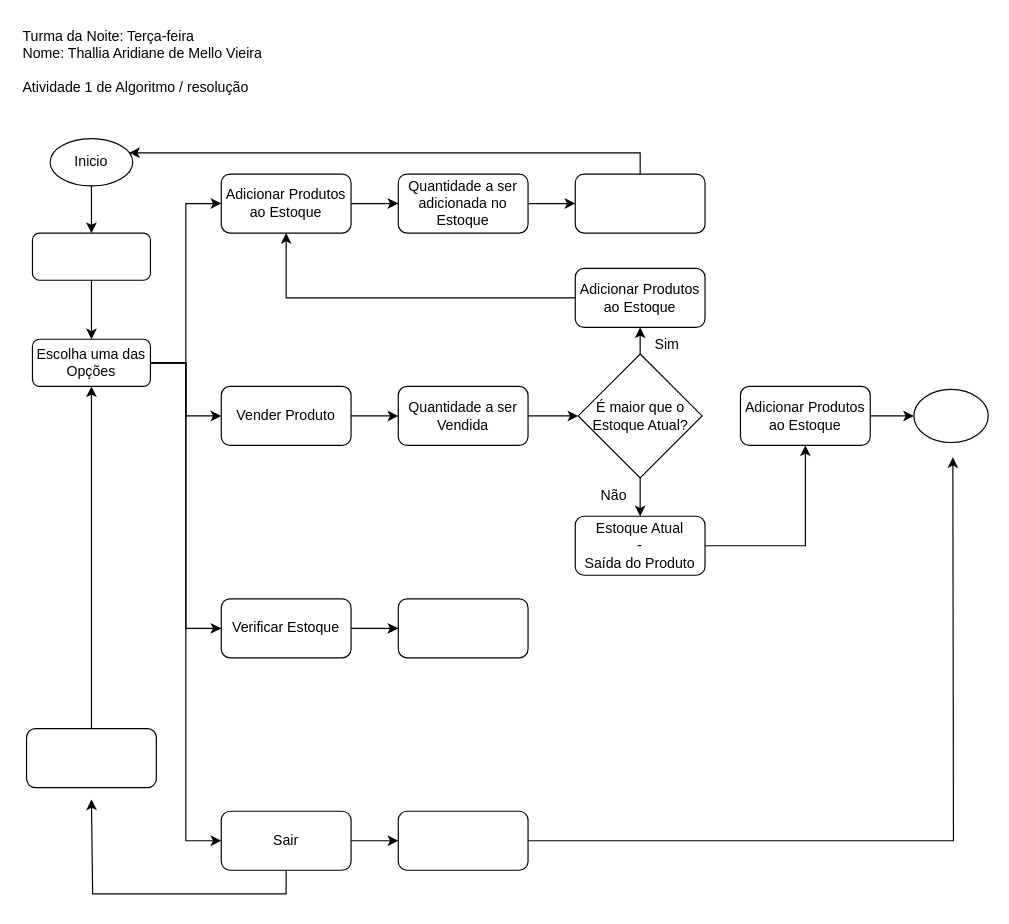
This 1009x924 diagram has some shape labels left out. Here are the shapes that lost their labels. From the top down, the centre of each, then its label:
At [639,203]: "Estoque Atual + Entrada do Produto".
At [90,256]: "Estoque Atual 100".
At [950,415]: "Fim".
At [462,628]: "Estoque Atual é de x unidades".
At [90,757]: "Opção Inválida".
At [462,840]: "Encerrar".
